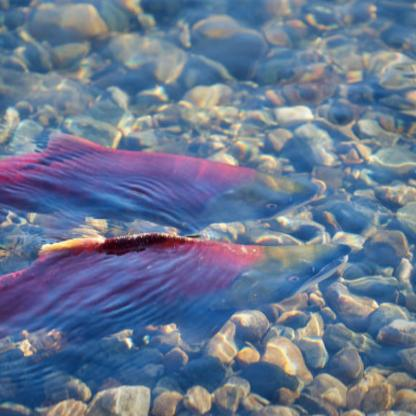sockeye: (0, 224, 341, 318), (0, 131, 328, 227)
